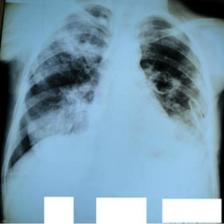tuberculosis: (4, 0, 219, 184)
